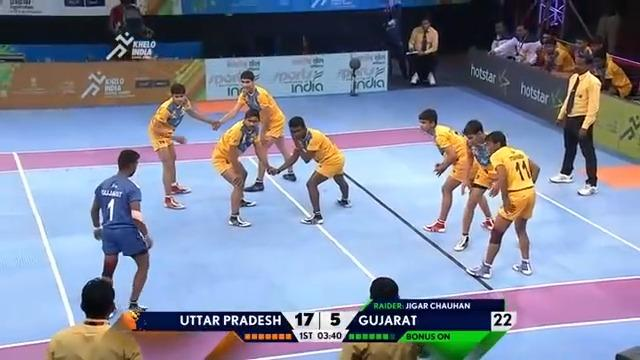Player: (465, 130, 540, 278), (211, 69, 297, 193), (267, 115, 352, 224), (147, 82, 218, 209), (45, 276, 143, 359), (417, 108, 479, 233), (210, 108, 274, 227), (453, 119, 498, 251)
Raider: (89, 148, 153, 314)
referee: (548, 47, 602, 195), (407, 16, 439, 86), (379, 5, 409, 79), (107, 0, 152, 40)
